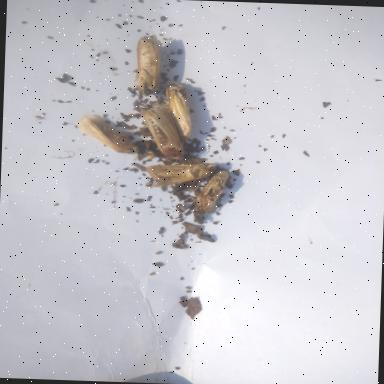abw: (134, 103, 188, 163), (74, 114, 140, 158), (145, 160, 218, 192), (162, 83, 198, 140), (130, 34, 160, 97), (192, 168, 230, 214)
